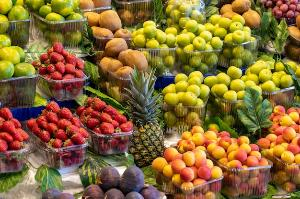apple: (208, 50, 299, 112), (160, 67, 210, 127), (26, 0, 96, 40), (128, 16, 178, 70), (204, 14, 254, 66), (0, 0, 28, 86), (178, 22, 222, 70), (165, 1, 209, 22)
figs: (55, 158, 165, 199)
kiwi: (84, 8, 146, 84)
peach: (166, 124, 300, 194)
strawberry: (35, 95, 138, 163), (34, 48, 86, 87), (1, 109, 30, 167)
